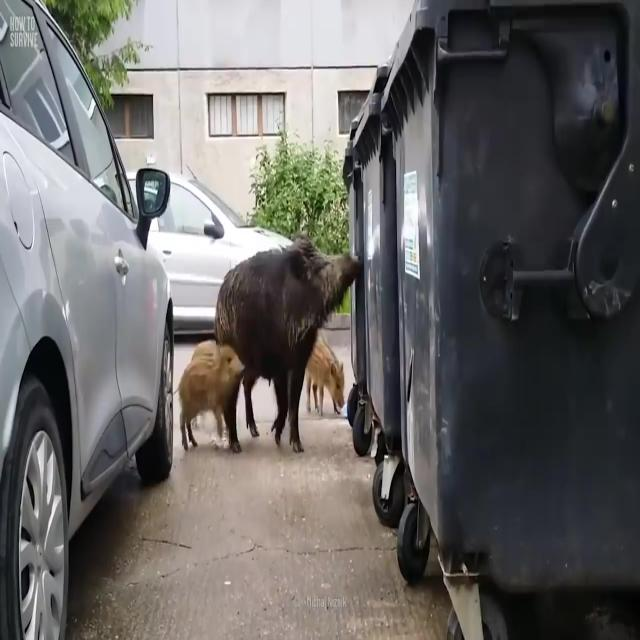pig: (206, 206, 364, 478)
